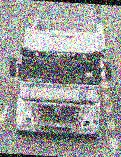truck: (5, 17, 115, 139)
